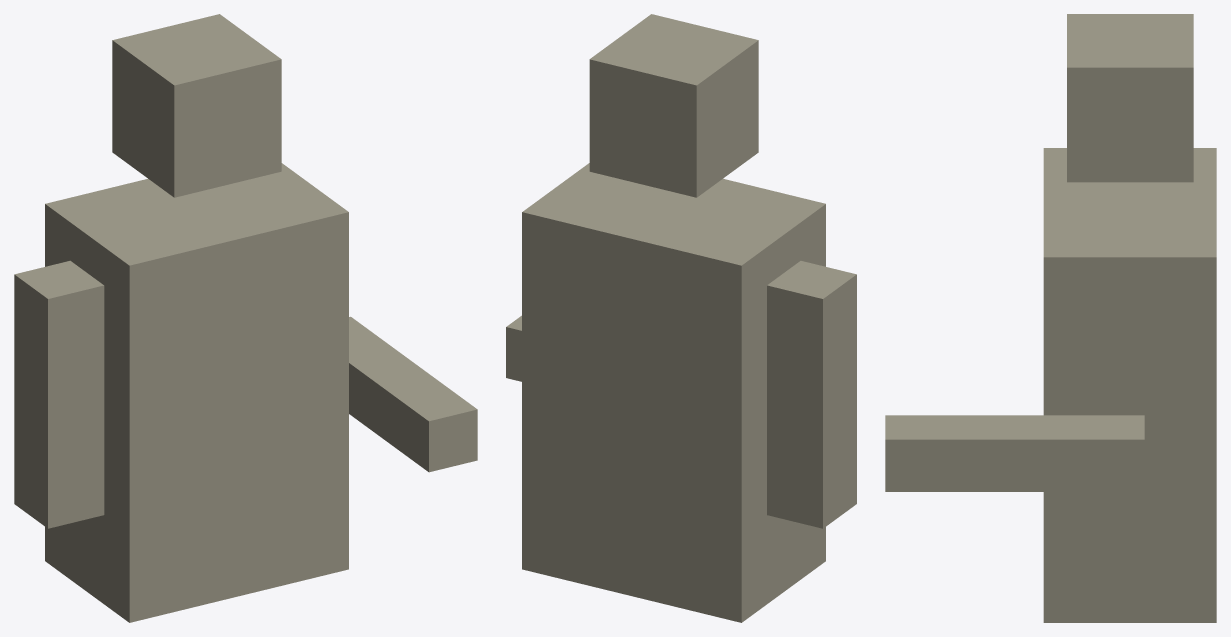
Rendered from pol_rifle.glb.
3 views of the same model, side by side, from view 1: azimuth 30°, elevation 25°; view 2: azimuth 150°, elevation 25°; view 3: azimuth 270°, elevation 25° (orthographic). The views are drawn at different scales.
Visible parts, largest first — view 1: Body, Head, Arm_L, Arm_R; view 2: Body, Head, Arm_L, Arm_R; view 3: Body, Head, Arm_R.
Boxes of the visible parts, <box> form: Body: <box>45,163,348,622</box>; Head: <box>112,14,281,197</box>; Arm_L: <box>14,260,104,528</box>; Arm_R: <box>349,316,477,472</box>; Body: <box>522,163,825,622</box>; Head: <box>589,14,758,197</box>; Arm_L: <box>767,261,856,528</box>; Arm_R: <box>506,315,521,381</box>; Body: <box>1043,148,1216,622</box>; Head: <box>1067,14,1193,182</box>; Arm_R: <box>885,415,1144,491</box>.
Size of the model in its own units: 0.67 by 1.01 by 0.575.
